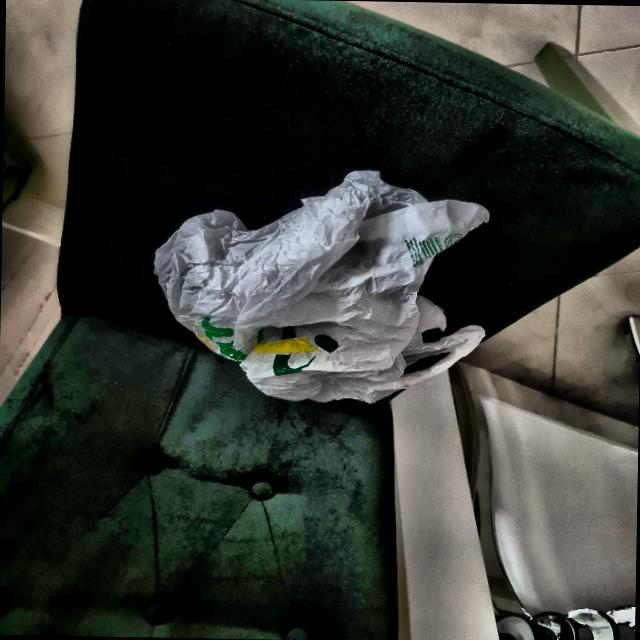plastic bag: (154, 168, 493, 406)
